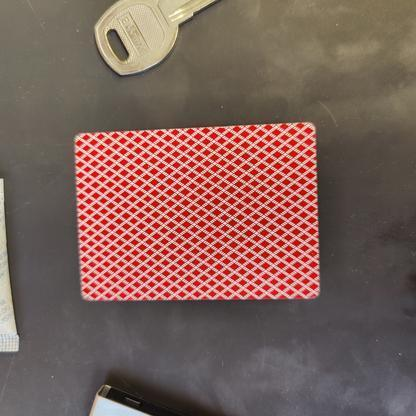card: (51, 112, 337, 309)
